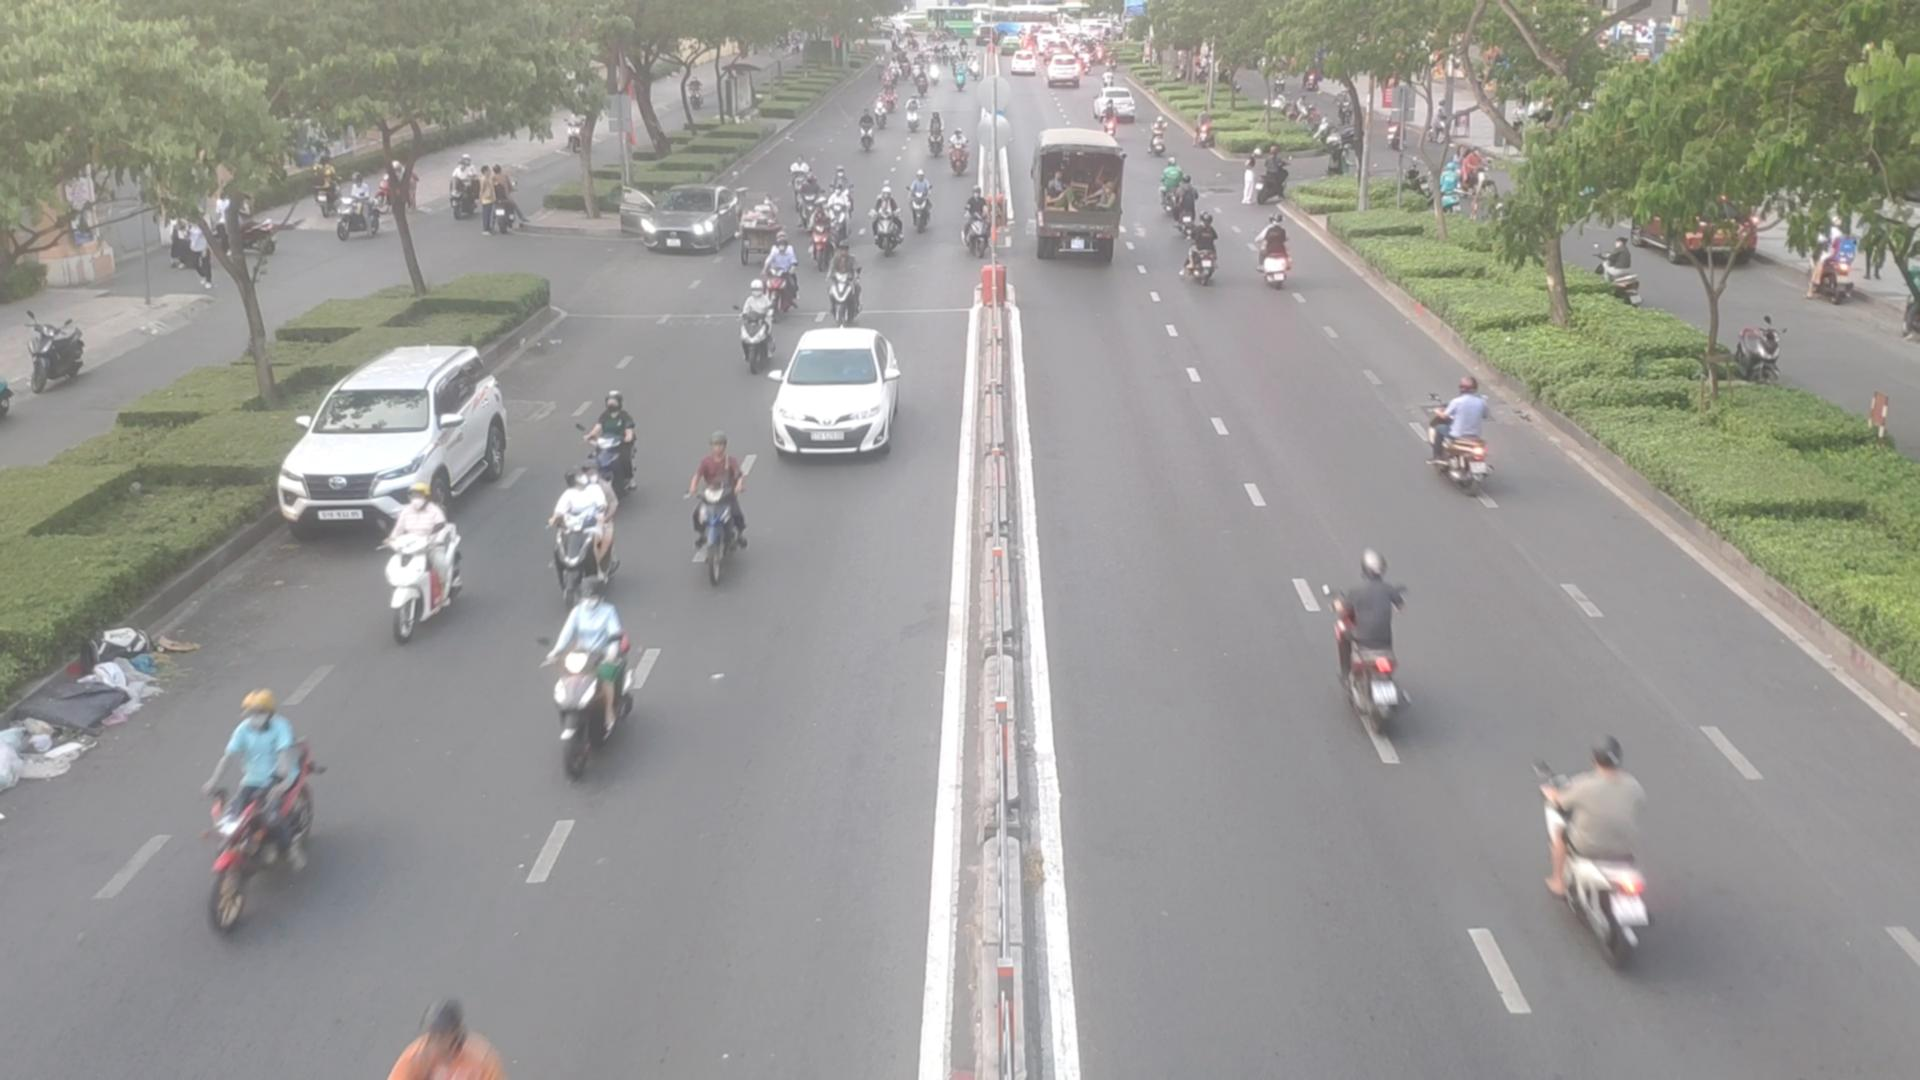car: (284, 343, 521, 531), (765, 326, 905, 454), (616, 193, 750, 260)
motorbike: (189, 694, 327, 934), (1542, 738, 1677, 961), (543, 593, 665, 756), (1317, 560, 1410, 735), (372, 489, 475, 636), (673, 448, 760, 583), (372, 1002, 512, 1080), (549, 465, 626, 584), (1423, 377, 1509, 483), (580, 394, 645, 483), (727, 293, 774, 368), (761, 235, 800, 309), (825, 256, 866, 326), (1255, 220, 1298, 287), (1179, 224, 1221, 284), (866, 200, 907, 260), (960, 187, 986, 255), (856, 116, 880, 153)
